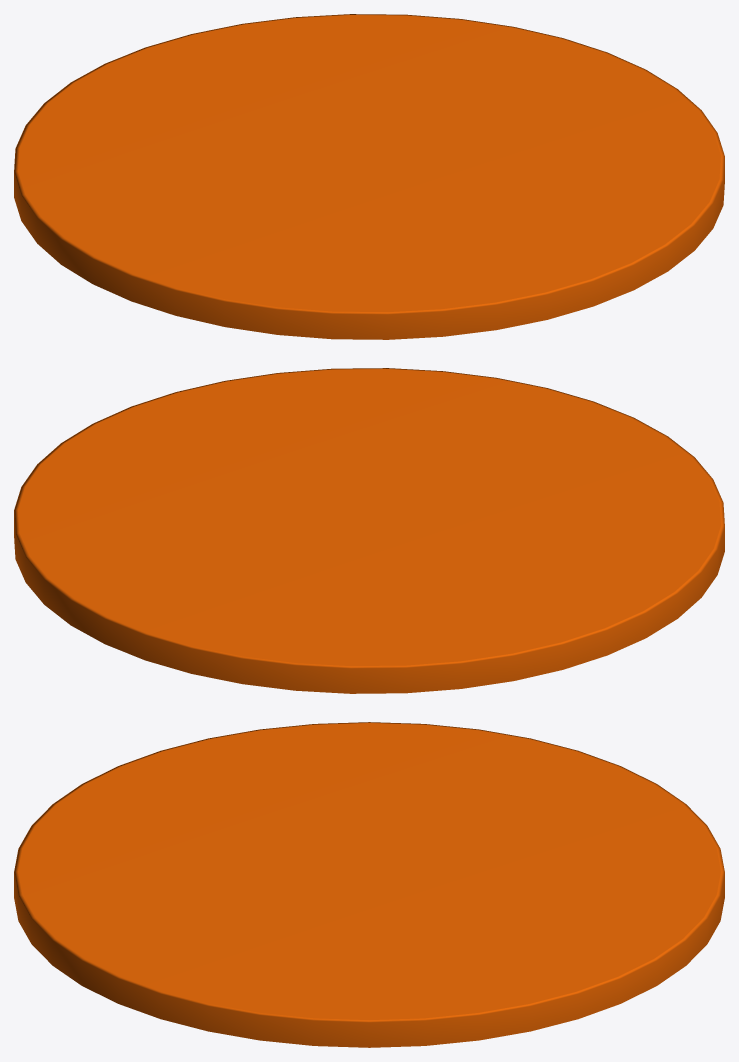
Rendered from Cylindre_Potion_01.fbx.
3 renders of one model, top to bottom at view 1: azimuth 30°, elevation 25°; view 2: azimuth 150°, elevation 25°; view 3: azimuth 270°, elevation 25°, orthographic.
Parts seen in each view (by area): view 1: Cylindre_Potion_01; view 2: Cylindre_Potion_01; view 3: Cylindre_Potion_01.
Part boxes in pixels (box(x1,y1,x2,y2)): Cylindre_Potion_01: box(14, 14, 724, 339); Cylindre_Potion_01: box(14, 368, 724, 693); Cylindre_Potion_01: box(14, 722, 724, 1047).
Size of the model in its own units: 44.73 by 1.92 by 44.73.
